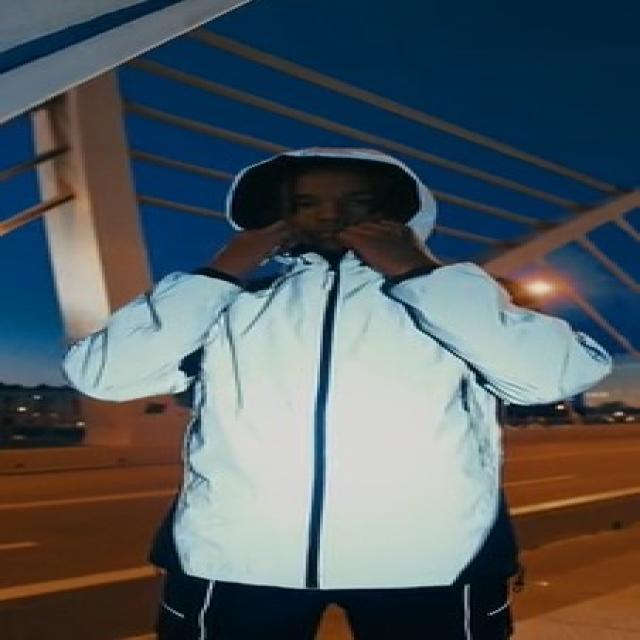Jacket_Wearer: (42, 252, 604, 586)
Person: (46, 151, 607, 600)
